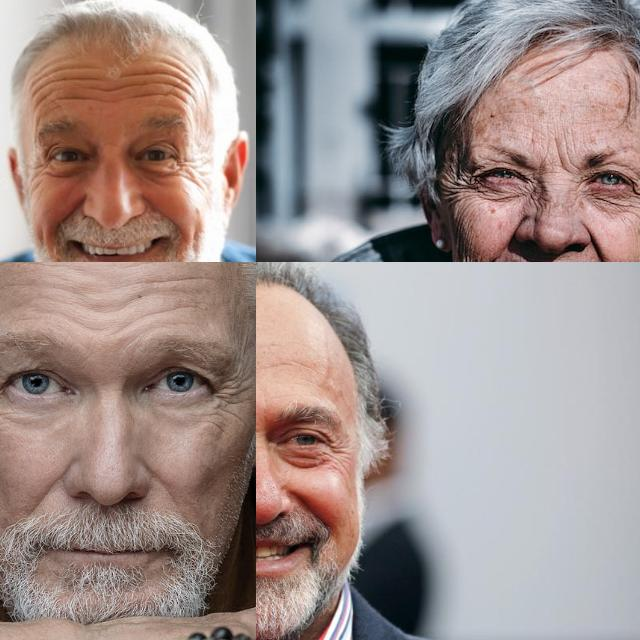bunny_line: (528, 188, 548, 215)
crows_feet: (212, 373, 244, 415), (172, 149, 198, 185), (451, 170, 482, 200), (325, 436, 349, 470), (28, 154, 52, 183), (631, 181, 640, 216)
forehead: (155, 62, 189, 106), (152, 266, 204, 292), (116, 68, 150, 104), (130, 300, 190, 320), (56, 61, 102, 85), (42, 276, 88, 300), (65, 311, 107, 335), (56, 89, 102, 108), (30, 69, 50, 111), (273, 356, 315, 376), (130, 262, 186, 271)
frown_line: (540, 135, 576, 173)
gummy_smile: (29, 462, 67, 510), (148, 465, 178, 503), (504, 216, 524, 258), (585, 228, 609, 262), (292, 489, 322, 515), (56, 201, 82, 229)
sad_smile: (485, 252, 499, 262)
